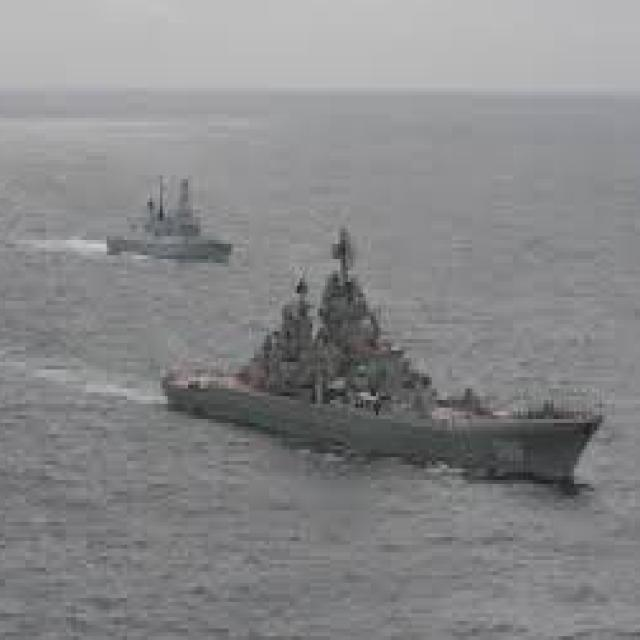navalvessels: (152, 232, 601, 501), (96, 158, 232, 252)
